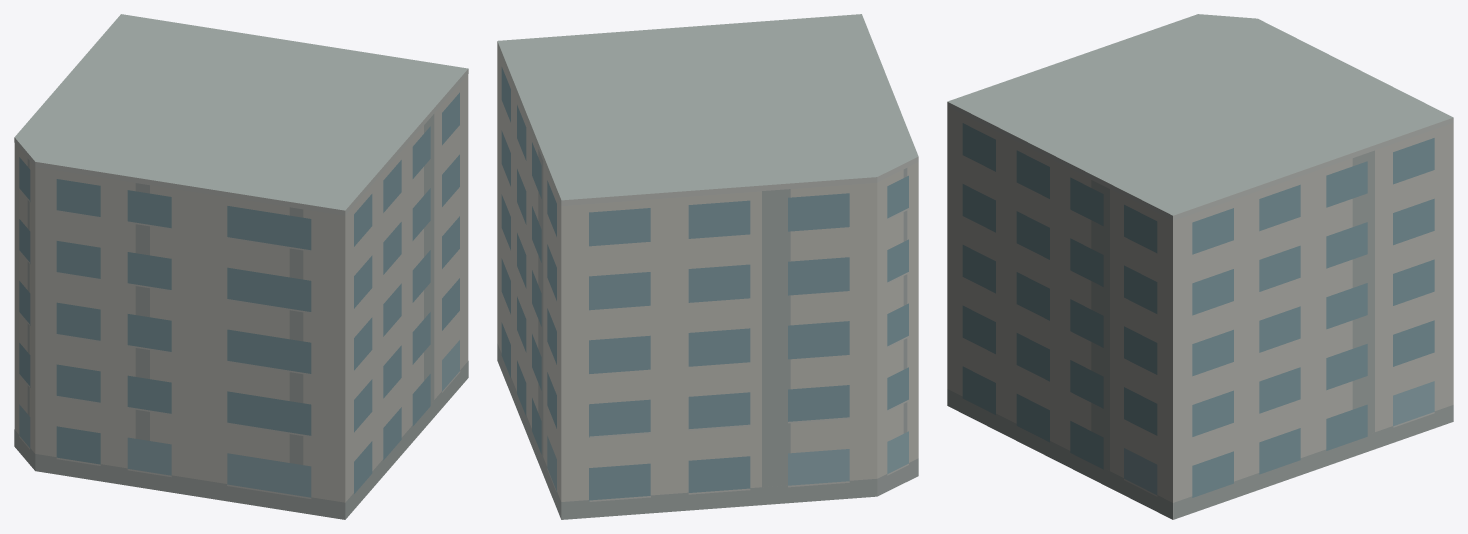
Rendered from survey-upis-32855371.glb.
3 views of the same model, side by side, from view 1: azimuth 30°, elevation 25°; view 2: azimuth 150°, elevation 25°; view 3: azimuth 270°, elevation 25° (orthographic). The views are drawn at different scales.
Visible parts, largest first — view 1: survey-upis-32855371.tmp; view 2: survey-upis-32855371.tmp; view 3: survey-upis-32855371.tmp.
Part boxes in pixels (<box>): survey-upis-32855371.tmp: <box>14,14,468,519</box>; survey-upis-32855371.tmp: <box>497,14,918,519</box>; survey-upis-32855371.tmp: <box>947,14,1453,519</box>.
Bounding box in the file's own units: 19.78 × 13.9 × 20.98.
